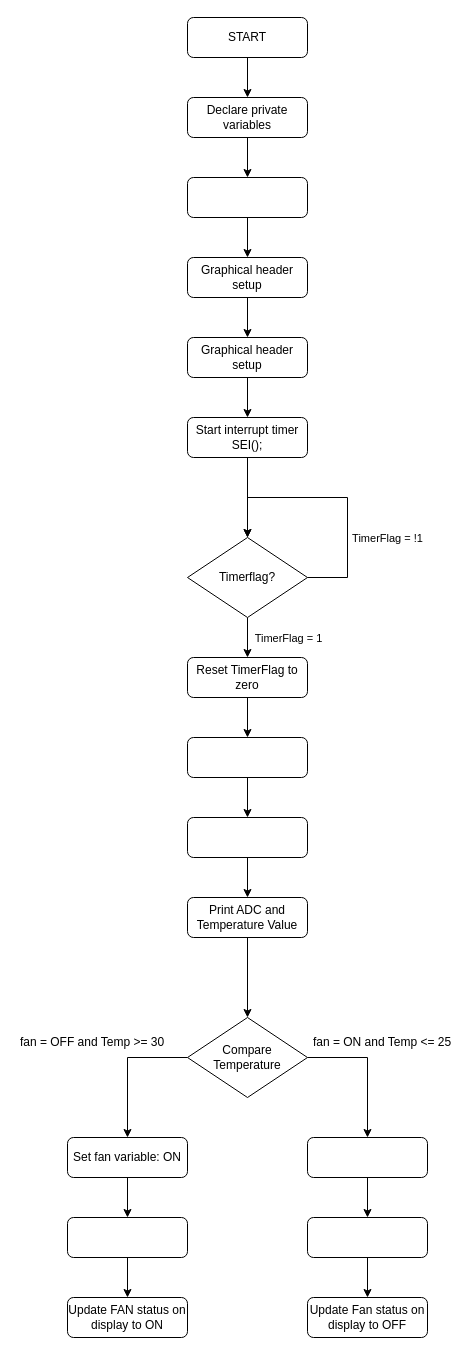
Some shapes in this 474 by 1355 pixel diagram are drawn without their labels. Here are the shapes that lost their labels. From the top down, the box of each, then its label:
(186, 176, 308, 218): Init functions (ADC, Timer, PWM, Display)
(186, 736, 308, 778): Take ADC Measurement
(186, 816, 308, 858): Calculate Temperature
(306, 1136, 428, 1178): Set fan variable: OFF
(66, 1216, 188, 1258): Turn Fan ON (PWM ON)
(306, 1216, 428, 1258): Turn Fan OFF (PWM OFF)
